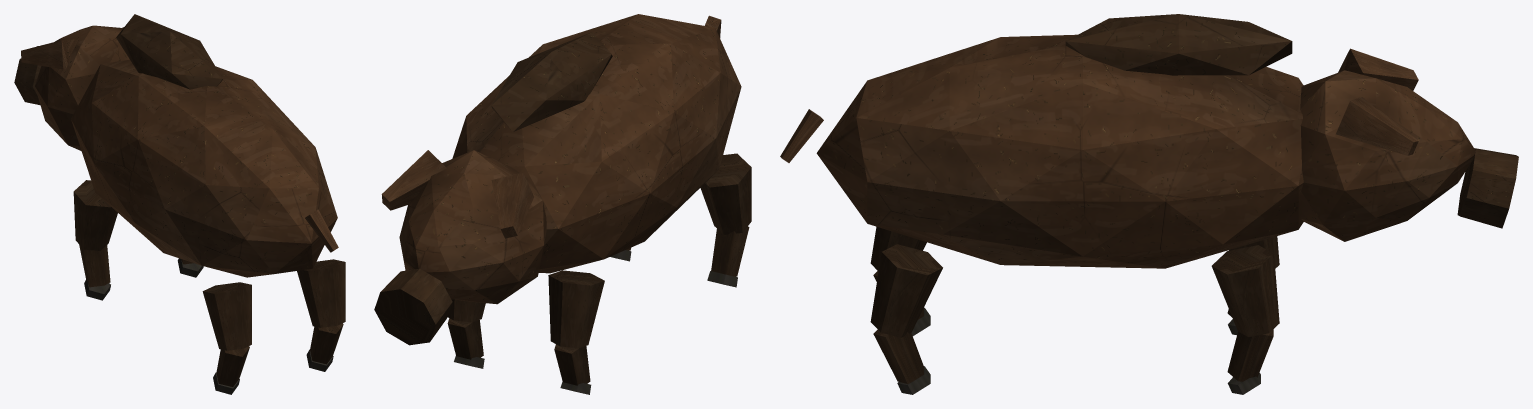
The model's file is animale_maiale.glb.
3 renders of one model, left to right at view 1: azimuth 30°, elevation 25°; view 2: azimuth 150°, elevation 25°; view 3: azimuth 270°, elevation 25°, orthographic. The views are drawn at different scales.
Visible parts, largest first — view 1: animale_maiale; view 2: animale_maiale; view 3: animale_maiale.
Part boxes in pixels (<box>): animale_maiale: <box>14,14,345,394</box>; animale_maiale: <box>374,14,751,394</box>; animale_maiale: <box>780,14,1518,394</box>.
Size of the model in its own units: 0.4405 by 0.7241 by 1.39.
3 materials, 3 textured.
